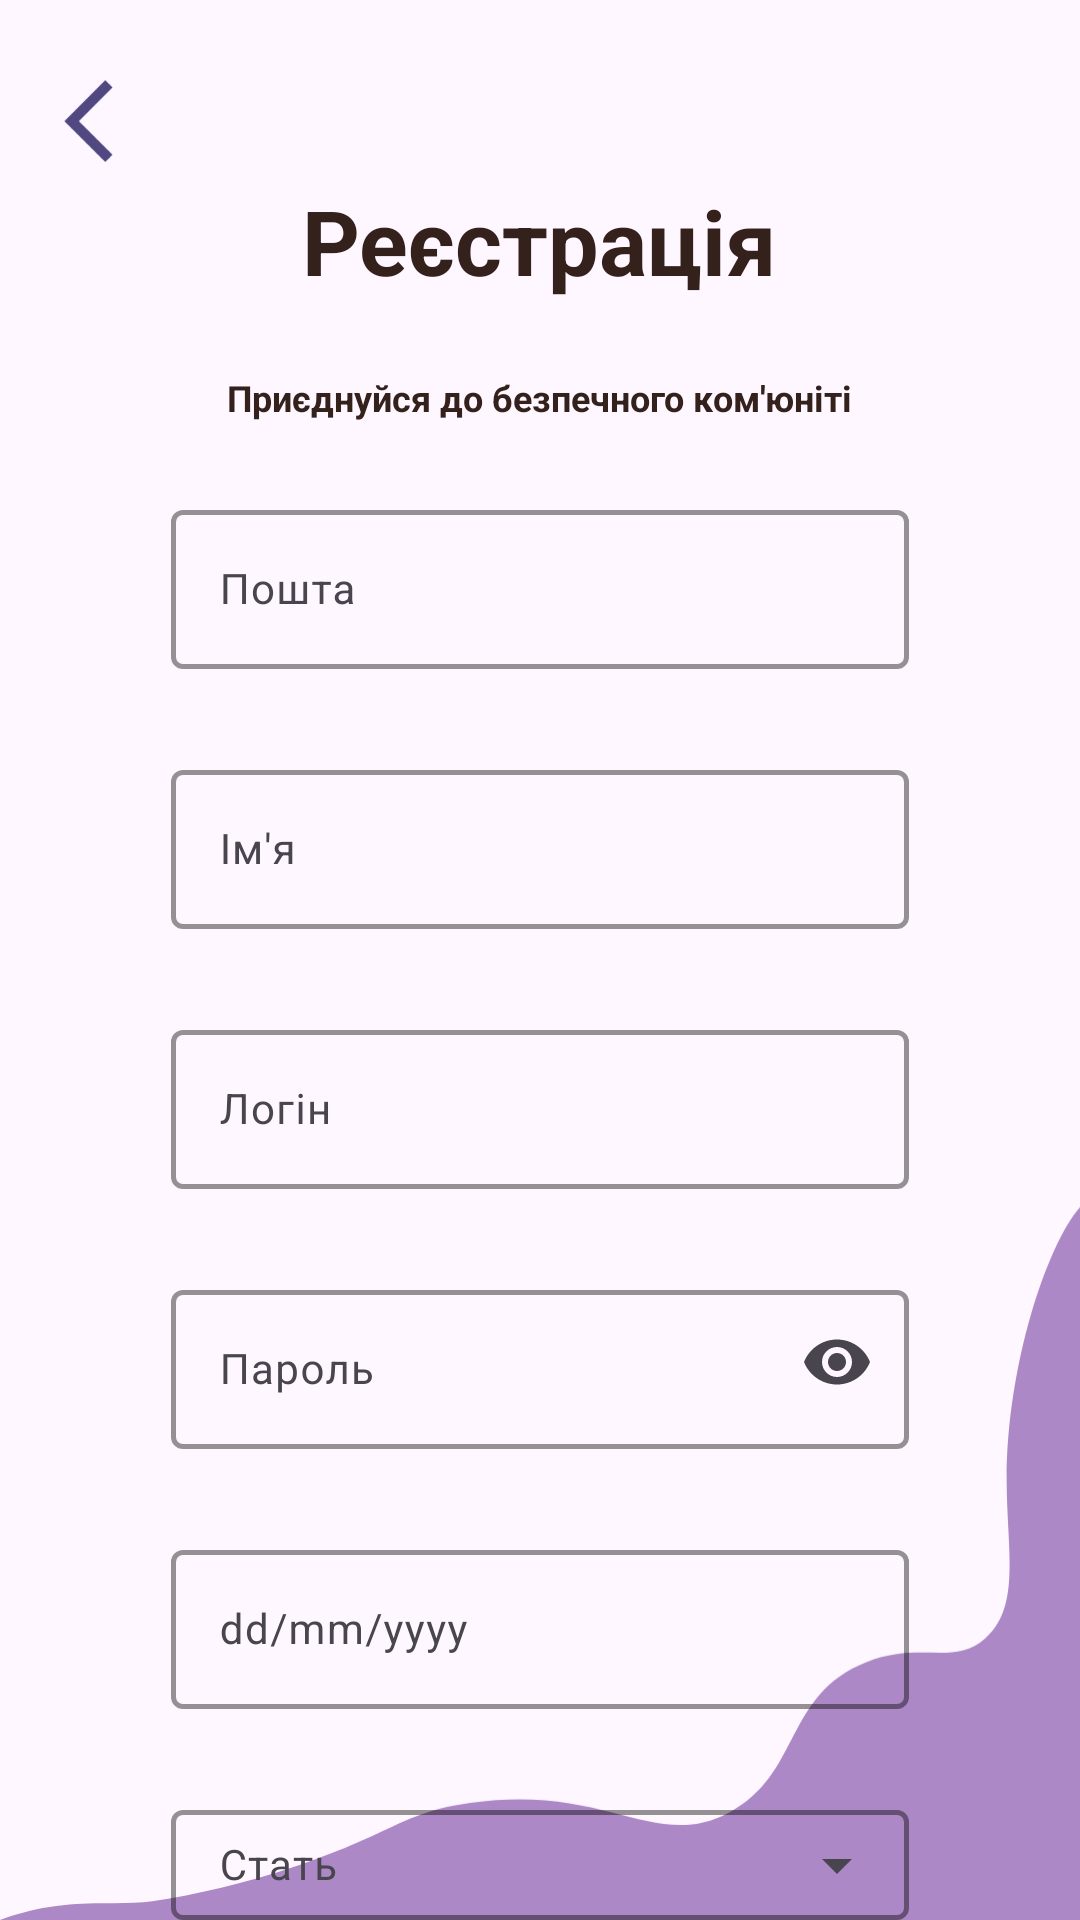

Locate icon controls on the screen. Image size 1080w x 1920h, boxes as (x1, y1, x2, y2).
Повернутись на сторінку привітання: (64, 80, 113, 162)
